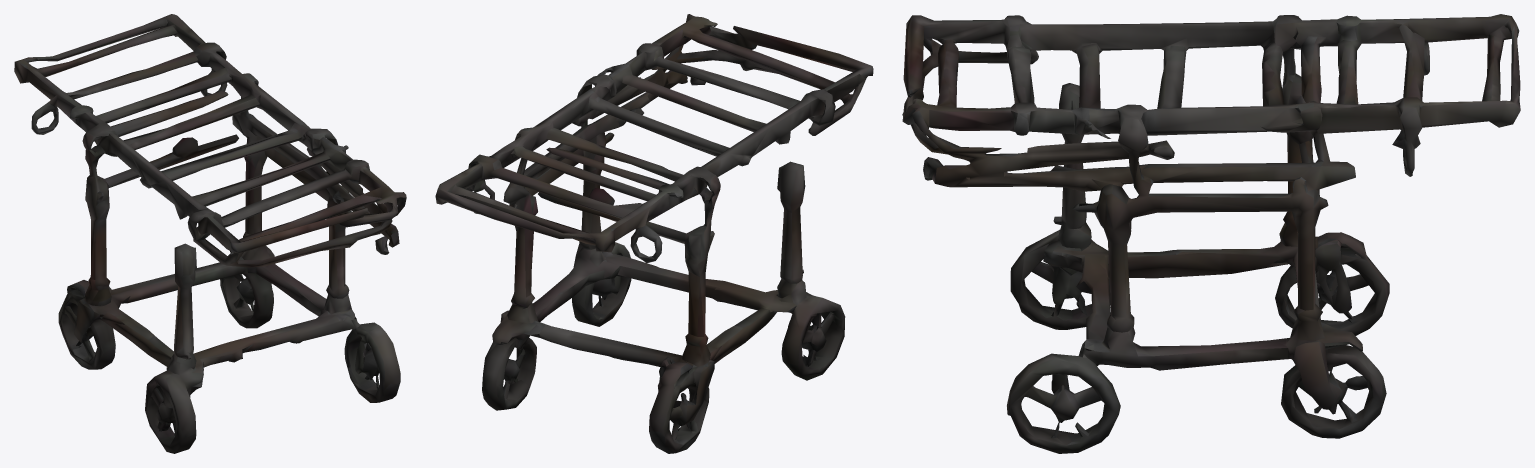
The model's file is old-iron-gurney-v001.glb.
The picture shows the model from 3 angles, left to right: view 1: azimuth 30°, elevation 25°; view 2: azimuth 150°, elevation 25°; view 3: azimuth 270°, elevation 25°; orthographic projection. The views are drawn at different scales.
Visible parts, largest first — view 1: old-iron-gurney; view 2: old-iron-gurney; view 3: old-iron-gurney.
Boxes of the visible parts, x1,y1,x2,y2 form: old-iron-gurney: (14,14,406,453); old-iron-gurney: (435,14,873,453); old-iron-gurney: (902,14,1520,453).
Bounding box in the file's own units: 0.8362 × 0.9495 × 1.58.
1 material, 1 textured.
